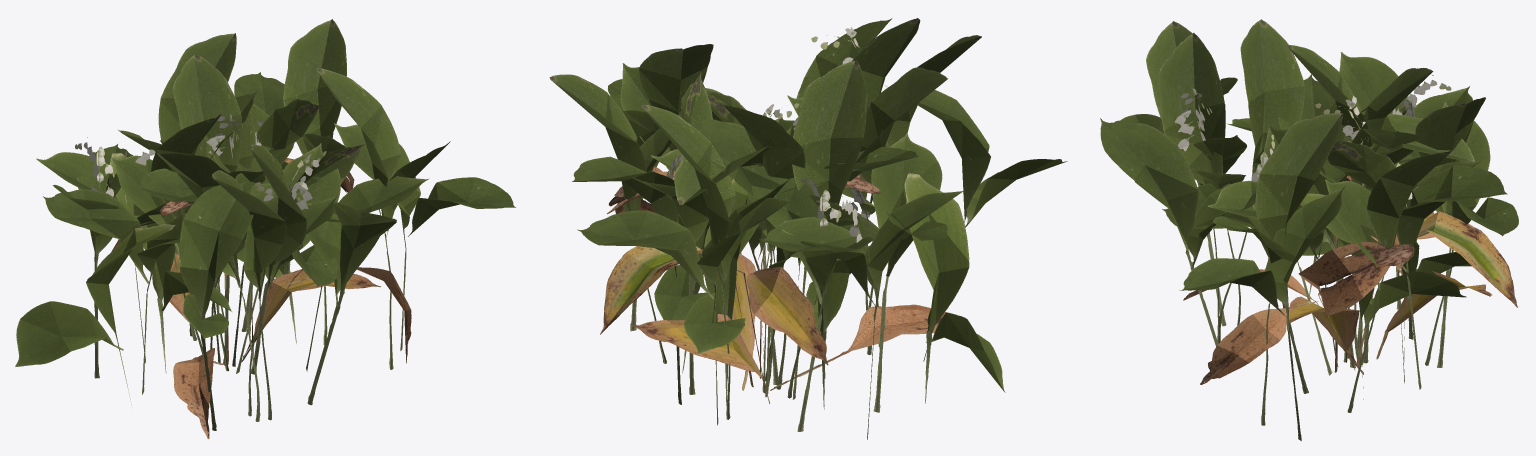
The model's file is xikkdhjja_tier_3_nonUE.gltf.
3 renders of one model, left to right at view 1: azimuth 30°, elevation 25°; view 2: azimuth 150°, elevation 25°; view 3: azimuth 270°, elevation 25°, orthographic. The views are drawn at different scales.
Visible parts, largest first — view 1: SM_xikkdhjja_VarC, SM_xikkdhjja_VarD, SM_xikkdhjja_VarB, SM_xikkdhjja_VarG, SM_xikkdhjja_VarE, SM_xikkdhjja_VarA, SM_xikkdhjja_VarF, SM_xikkdhjja_VarH; view 2: SM_xikkdhjja_VarC, SM_xikkdhjja_VarD, SM_xikkdhjja_VarB, SM_xikkdhjja_VarG, SM_xikkdhjja_VarE, SM_xikkdhjja_VarH, SM_xikkdhjja_VarF, SM_xikkdhjja_VarA; view 3: SM_xikkdhjja_VarC, SM_xikkdhjja_VarD, SM_xikkdhjja_VarE, SM_xikkdhjja_VarB, SM_xikkdhjja_VarG, SM_xikkdhjja_VarF, SM_xikkdhjja_VarH, SM_xikkdhjja_VarA.
Boxes of the visible parts, x1,y1,x2,y2 form: SM_xikkdhjja_VarC: (15, 33, 450, 430); SM_xikkdhjja_VarD: (43, 19, 515, 420); SM_xikkdhjja_VarB: (36, 99, 340, 374); SM_xikkdhjja_VarG: (111, 239, 380, 439); SM_xikkdhjja_VarE: (137, 91, 411, 366); SM_xikkdhjja_VarA: (177, 114, 294, 363); SM_xikkdhjja_VarF: (175, 108, 255, 360); SM_xikkdhjja_VarH: (160, 158, 293, 363); SM_xikkdhjja_VarC: (572, 18, 1067, 439); SM_xikkdhjja_VarD: (549, 18, 981, 425); SM_xikkdhjja_VarB: (632, 72, 918, 431); SM_xikkdhjja_VarG: (600, 246, 946, 390); SM_xikkdhjja_VarE: (609, 91, 879, 397); SM_xikkdhjja_VarH: (607, 171, 882, 403); SM_xikkdhjja_VarF: (674, 146, 775, 393); SM_xikkdhjja_VarA: (651, 103, 860, 391); SM_xikkdhjja_VarC: (1120, 19, 1507, 425); SM_xikkdhjja_VarD: (1100, 21, 1518, 441); SM_xikkdhjja_VarE: (1200, 124, 1425, 384); SM_xikkdhjja_VarB: (1162, 74, 1481, 383); SM_xikkdhjja_VarG: (1183, 211, 1517, 374); SM_xikkdhjja_VarF: (1350, 114, 1474, 363); SM_xikkdhjja_VarH: (1334, 141, 1491, 372); SM_xikkdhjja_VarA: (1315, 95, 1372, 365).
Size of what is drawn, in the model's own units: 0.6341 by 0.4267 by 0.524.
Materials: 1 (1 with a texture image).
